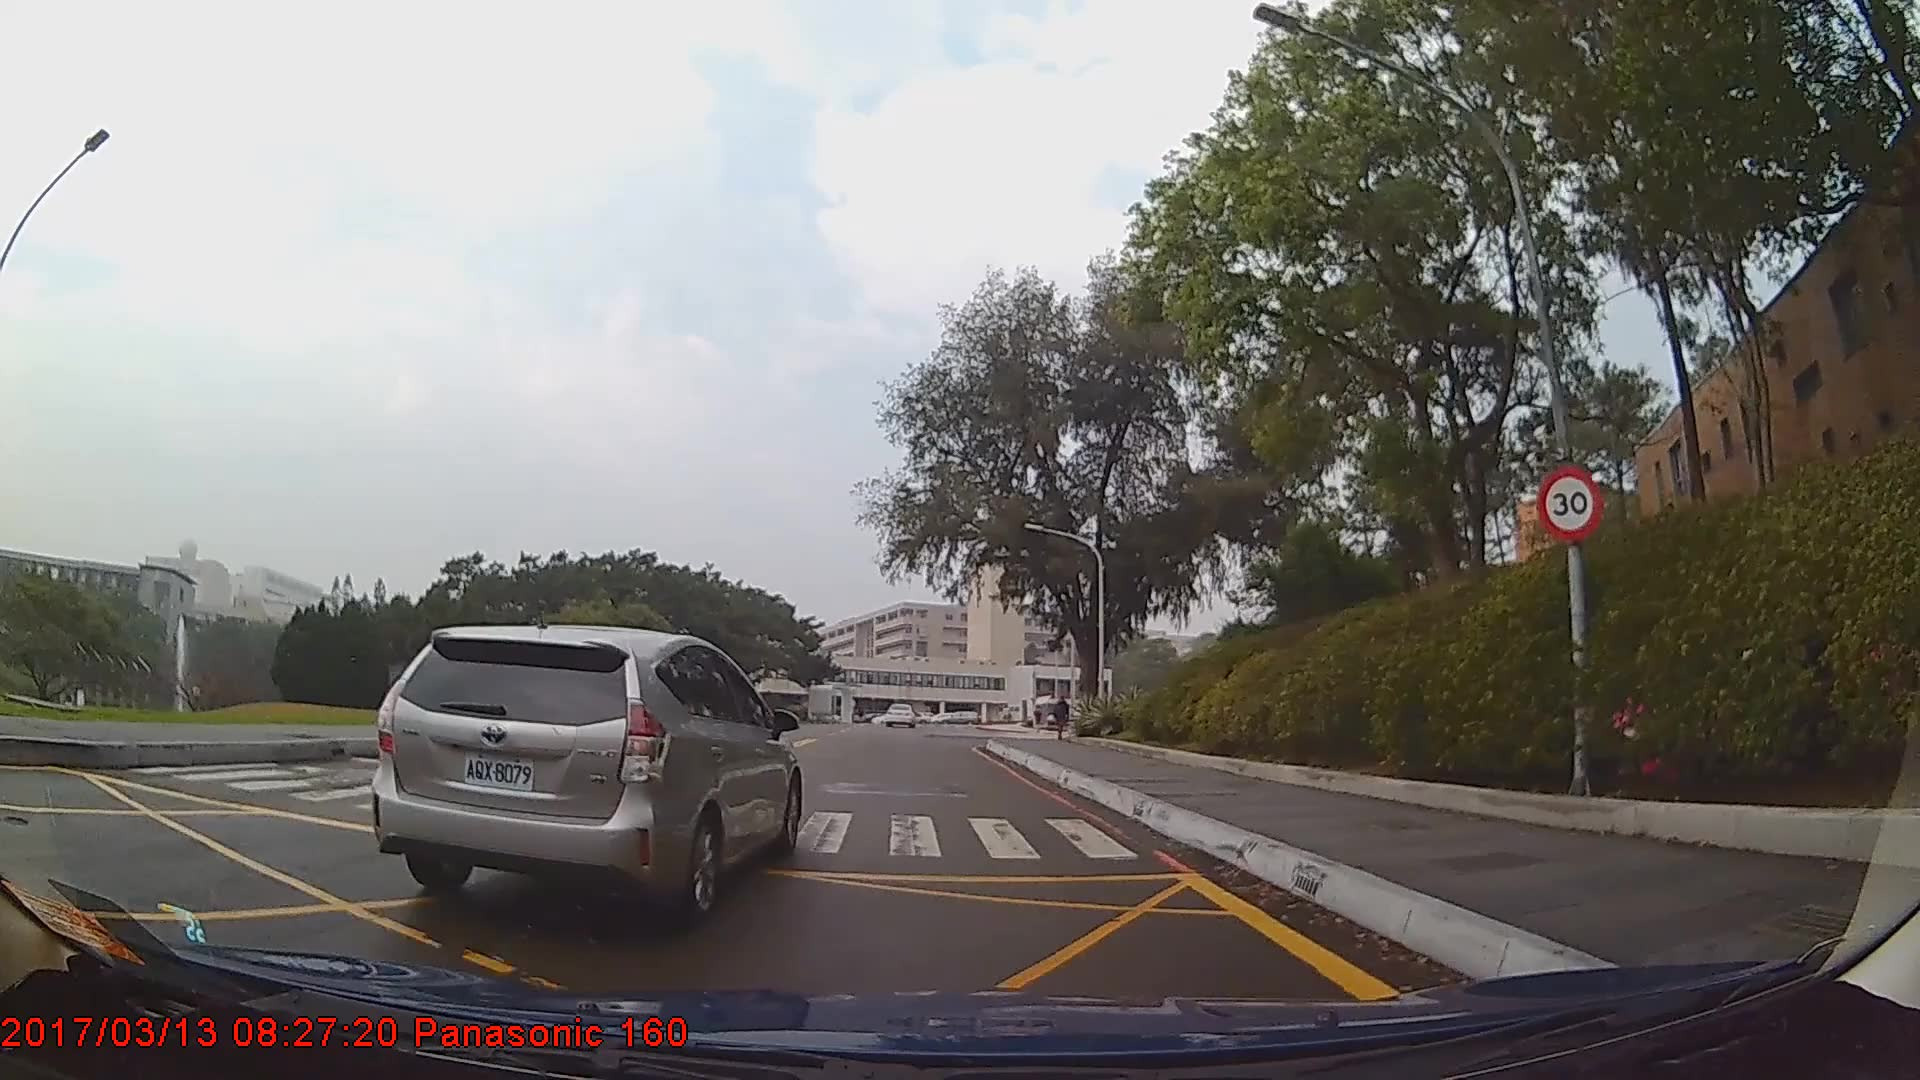pedestrian: (1052, 695, 1073, 742)
vehicle: (366, 621, 800, 919), (883, 700, 913, 727)
